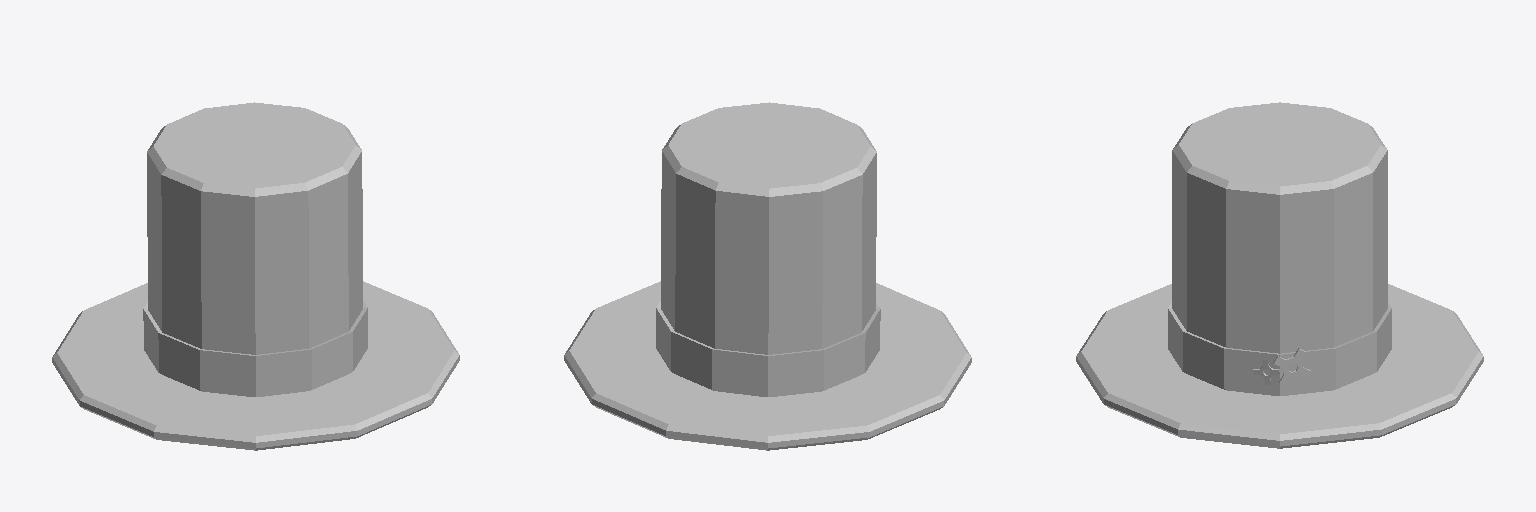
The model's file is steampunk hat.obj.
3 views of the same model, side by side, from view 1: azimuth 30°, elevation 25°; view 2: azimuth 150°, elevation 25°; view 3: azimuth 270°, elevation 25° (orthographic).
Parts seen in each view (by area): view 1: top_hat_obj; view 2: top_hat_obj; view 3: top_hat_obj.
Boxes of the visible parts, x1,y1,x2,y2 form: top_hat_obj: [52, 102, 459, 450]; top_hat_obj: [564, 102, 971, 450]; top_hat_obj: [1076, 102, 1483, 448].
Bounding box in the file's own units: 3.79 × 2.28 × 3.79.